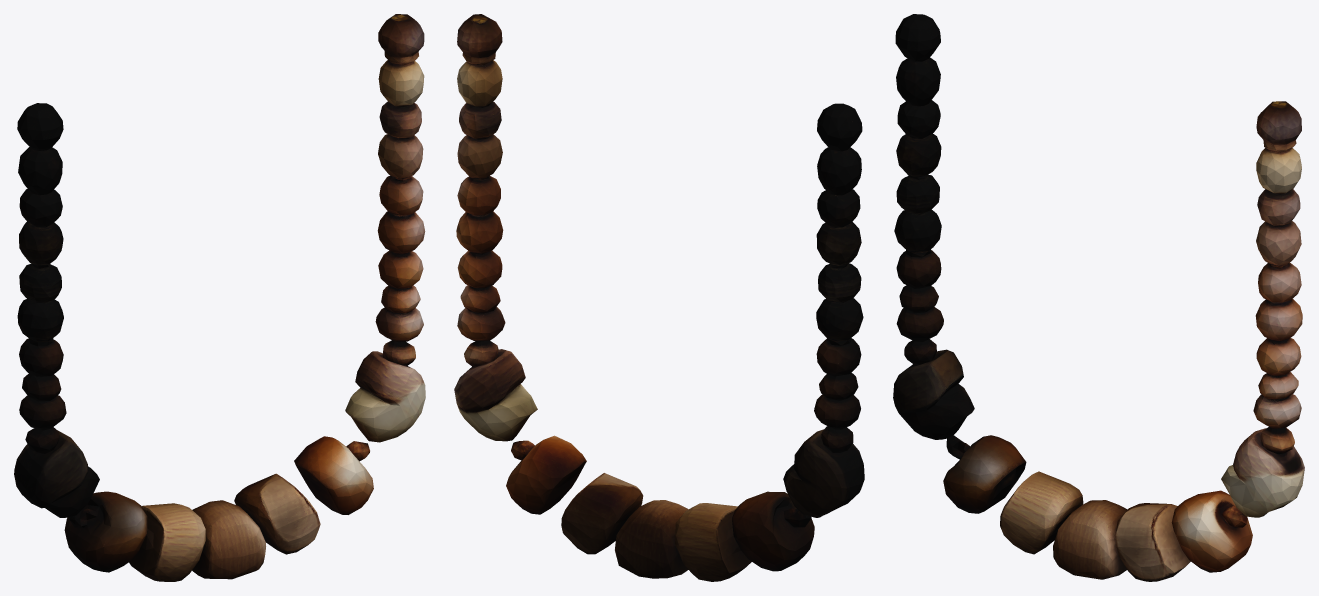
Rendered from wooden-necklace-rustic.jpeg.glb.
3 renders of one model, left to right at view 1: azimuth 30°, elevation 25°; view 2: azimuth 150°, elevation 25°; view 3: azimuth 330°, elevation 25°, orthographic.
Visible parts, largest first — view 1: world; view 2: world; view 3: world.
Boxes of the visible parts, box(x1,y1,x2,y2) form: world: box(14, 14, 425, 581); world: box(454, 14, 864, 581); world: box(893, 14, 1304, 581).
Size of the model in its own units: 0.8364 by 1 by 0.1441.
1 material, 1 textured.
